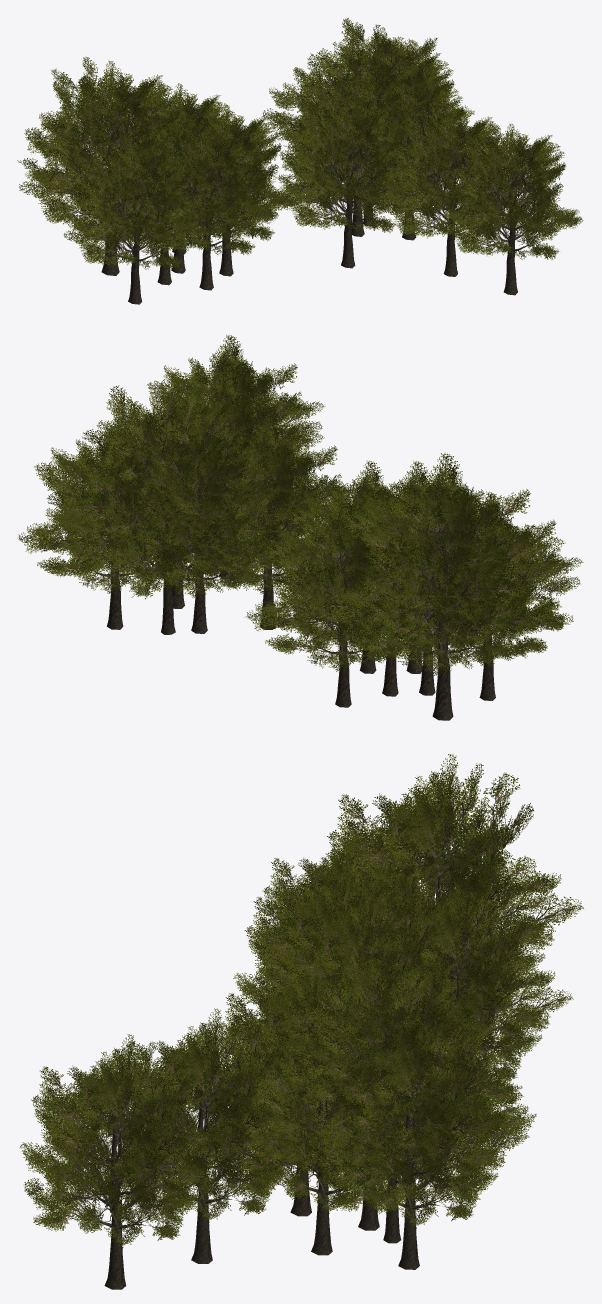
Rendered from trees.gltf.
The picture shows the model from 3 angles, top to bottom: view 1: azimuth 30°, elevation 25°; view 2: azimuth 150°, elevation 25°; view 3: azimuth 270°, elevation 25°; orthographic projection. The views are drawn at different scales.
Visible parts, largest first — view 1: Object_4.006, Object_4.017, Object_4.015, Object_4.019, Object_4.016, Object_4.003, Object_4.007, Object_4.008, Object_4.002, Object_4.014, Object_4.011, Object_4.022 (+2 smaller); view 2: Object_4.006, Object_4.016, Object_4.012, Object_4.013, Object_4.011, Object_4.015, Object_4.019, Object_4.017, Object_4.003, Object_4.008, Object_4.022, Object_4.002 (+2 smaller); view 3: Object_4.016, Object_4.017, Object_4.006, Object_4.013, Object_4.003, Object_4.014, Object_4.012, Object_4.007, Object_4.008, Object_4.015, Object_4.022, Object_4.019 (+2 smaller).
Part boxes in pixels (x1,y1,x2,y2): Object_4.006: (17, 57, 193, 275); Object_4.017: (438, 121, 583, 295); Object_4.015: (275, 94, 420, 268); Object_4.019: (63, 133, 205, 304); Object_4.016: (262, 18, 474, 226); Object_4.003: (378, 102, 523, 276); Object_4.007: (139, 117, 278, 290); Object_4.008: (173, 102, 298, 276); Object_4.002: (92, 114, 237, 285); Object_4.014: (340, 66, 469, 240); Object_4.011: (283, 62, 406, 236); Object_4.022: (121, 102, 251, 273); Object_4.006: (321, 453, 565, 720); Object_4.016: (54, 385, 289, 634); Object_4.012: (244, 494, 437, 707); Object_4.013: (17, 416, 201, 629); Object_4.011: (102, 420, 295, 633); Object_4.015: (187, 416, 359, 629); Object_4.019: (413, 491, 583, 700); Object_4.017: (147, 334, 325, 467); Object_4.003: (149, 366, 324, 578); Object_4.008: (270, 460, 412, 673); Object_4.022: (293, 483, 453, 696); Object_4.002: (339, 484, 516, 695); Object_4.016: (251, 953, 536, 1243); Object_4.017: (19, 1034, 235, 1289); Object_4.006: (321, 754, 583, 1011); Object_4.013: (314, 1014, 529, 1269); Object_4.003: (109, 1008, 308, 1263); Object_4.014: (230, 1000, 419, 1255); Object_4.012: (377, 876, 573, 1081); Object_4.007: (233, 864, 443, 1029); Object_4.008: (261, 885, 466, 1030); Object_4.015: (210, 961, 356, 1216); Object_4.022: (321, 870, 516, 1057); Object_4.019: (251, 826, 421, 995).
Size of the model in its own units: 179 by 81.47 by 139.
45 materials, 45 textured.
